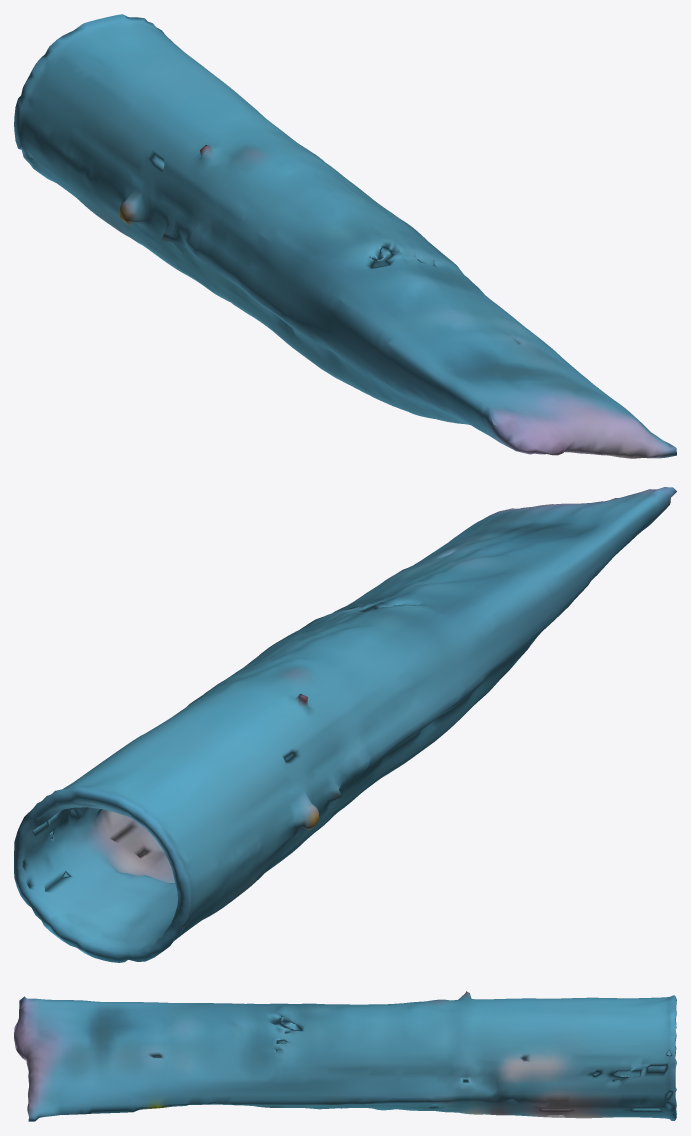
The model's file is oil.glb.
3 renders of one model, top to bottom at view 1: azimuth 30°, elevation 25°; view 2: azimuth 150°, elevation 25°; view 3: azimuth 270°, elevation 25°, orthographic. The views are drawn at different scales.
Bounding box in the file's own units: 0.2418 × 0.1858 × 0.9993.
